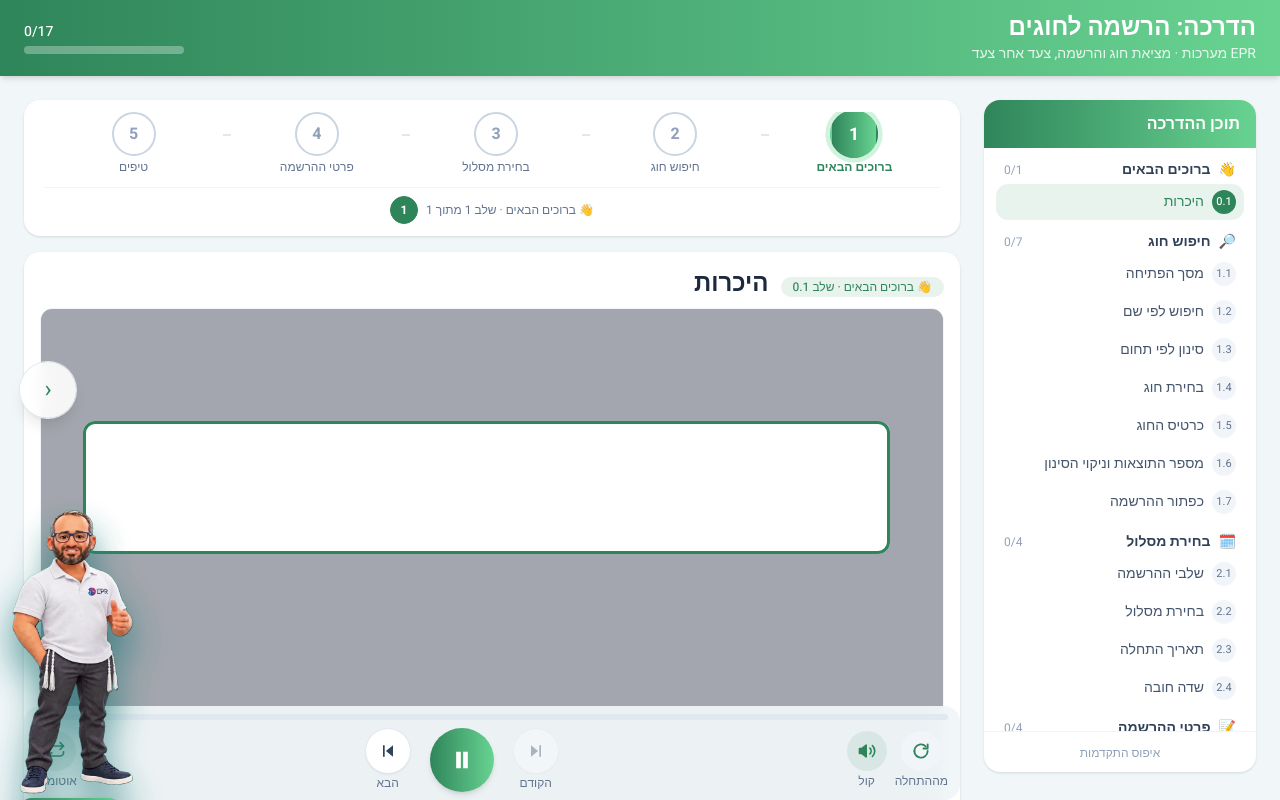
Test: App › goes to step 1.1 on 'הבא' and marks 0.1 done
Click the button named "הבא": (388, 751) top-left (366, 729), bottom-right (410, 773)
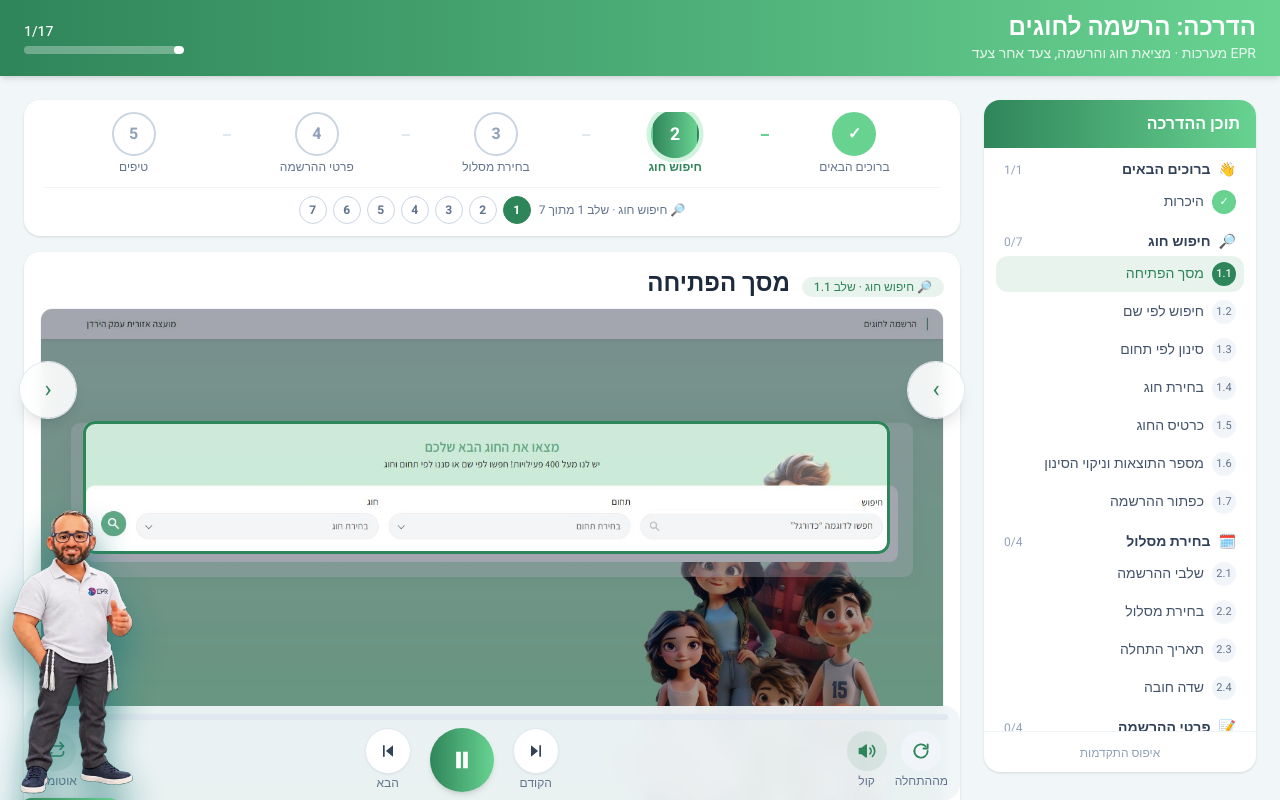
Result: the heading "מסך הפתיחה" is shown at top-left (647, 268), bottom-right (790, 300)
